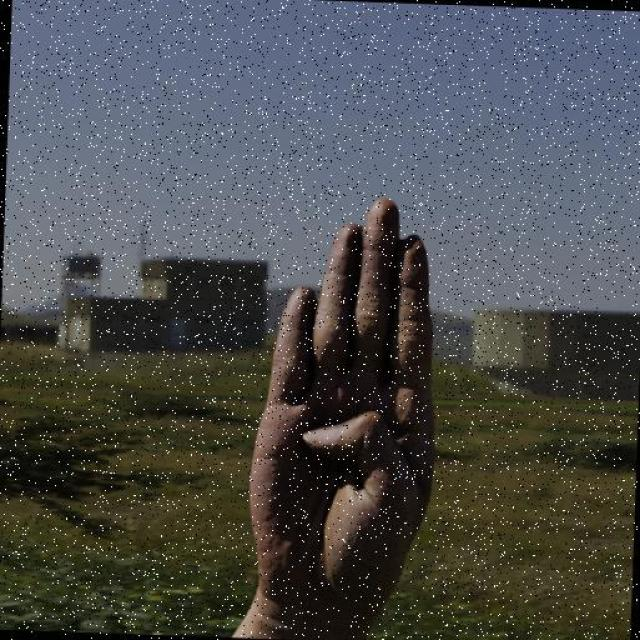B: (236, 190, 453, 625)
